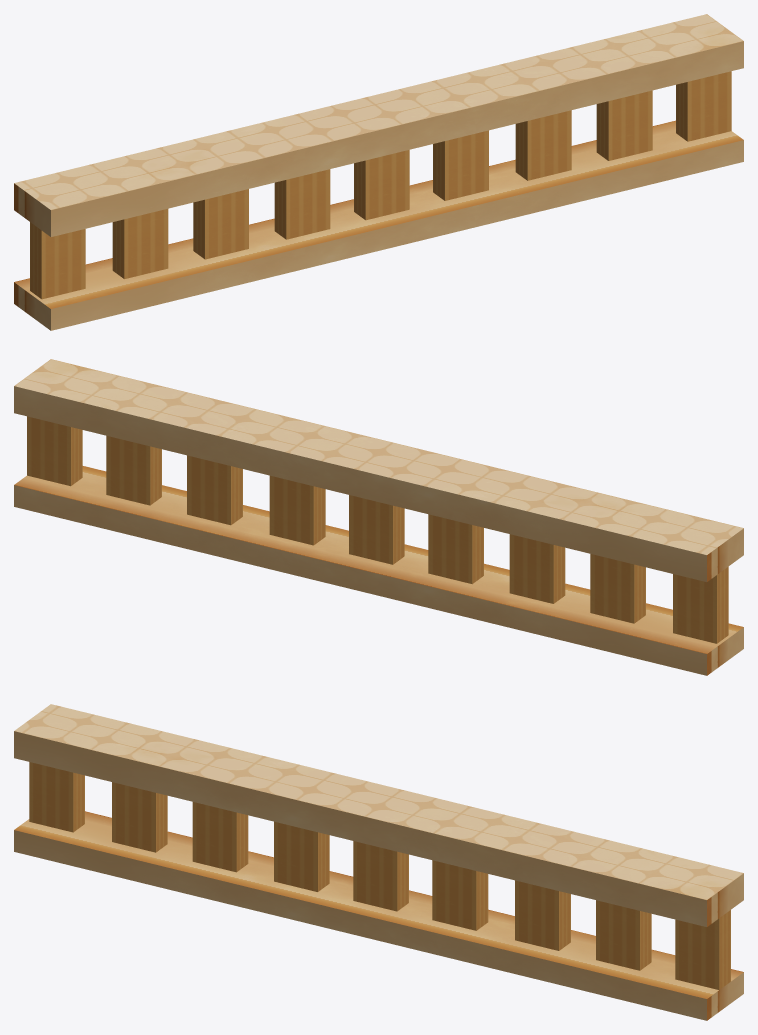
Rendered from railing.fbx.
3 renders of one model, top to bottom at view 1: azimuth 30°, elevation 25°; view 2: azimuth 150°, elevation 25°; view 3: azimuth 330°, elevation 25°, orthographic.
Visible parts, largest first — view 1: pCube515; view 2: pCube515; view 3: pCube515.
Part boxes in pixels (x1,y1,x2,y2): pCube515: [14, 14, 743, 330]; pCube515: [14, 359, 743, 675]; pCube515: [14, 704, 743, 1020].
Bounding box in the file's own units: 601 × 100 × 55.51.
